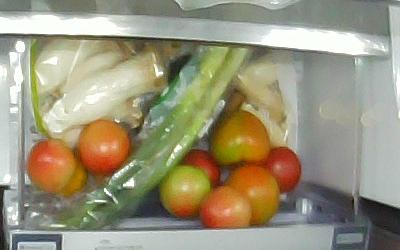tangerine: (56, 158, 85, 196)
tomato: (220, 161, 279, 224), (207, 109, 270, 167), (76, 117, 130, 174), (157, 163, 212, 217), (25, 137, 75, 192), (197, 183, 252, 227), (259, 145, 301, 193), (178, 150, 220, 188)
